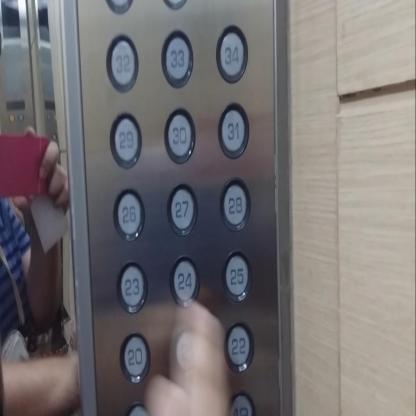20: (119, 331, 151, 385)
22: (224, 319, 255, 374)
23: (115, 260, 148, 316)
24: (168, 252, 201, 309)
25: (221, 246, 252, 304)
26: (112, 187, 146, 241)
27: (166, 183, 198, 238)
28: (219, 176, 250, 230)
29: (109, 112, 143, 170)
30: (162, 105, 197, 166)
31: (216, 100, 250, 161)
32: (104, 32, 139, 91)
33: (159, 27, 195, 88)
34: (214, 23, 250, 82)
blur: (172, 324, 201, 373)
